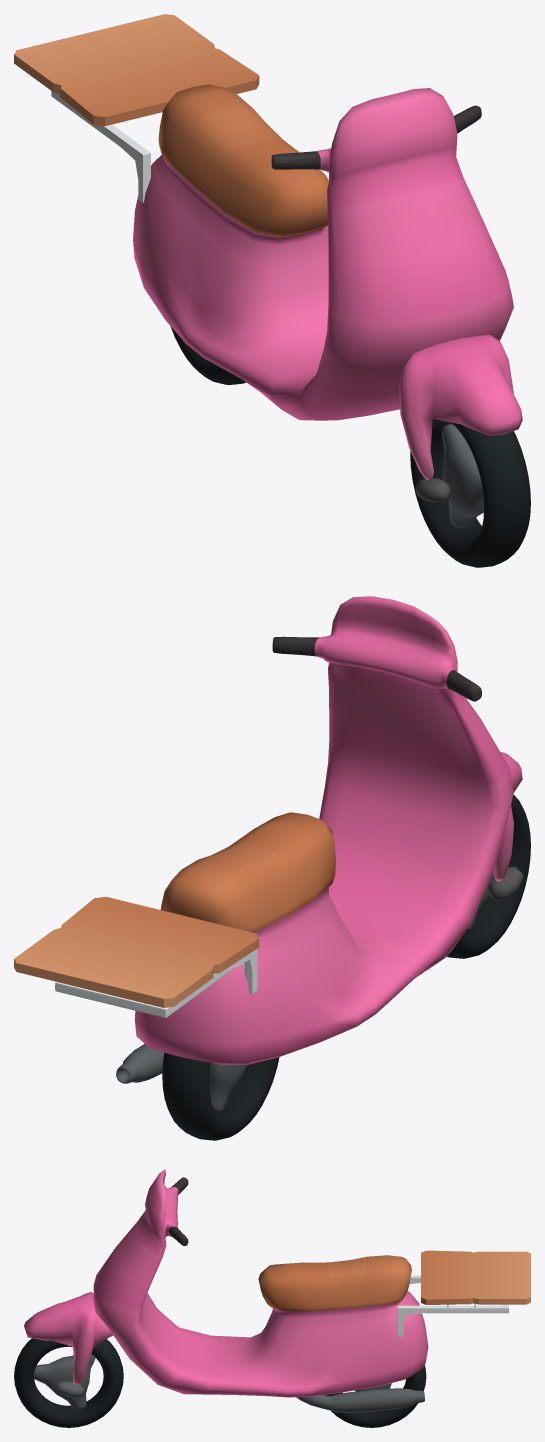
File: MOTO TITO.fbx
3 views of the same model, one above another, from view 1: azimuth 30°, elevation 25°; view 2: azimuth 150°, elevation 25°; view 3: azimuth 270°, elevation 25° (orthographic). The views are drawn at different scales.
Parts seen in each view (by area): view 1: vespa; view 2: vespa; view 3: vespa.
Part boxes in pixels (box(x1,y1,x2,y2)): vespa: box(14, 14, 530, 567); vespa: box(14, 596, 530, 1140); vespa: box(14, 1169, 530, 1427).
Bounding box in the file's own units: 128 × 451 × 239.
Materials: 1 (1 with a texture image).
